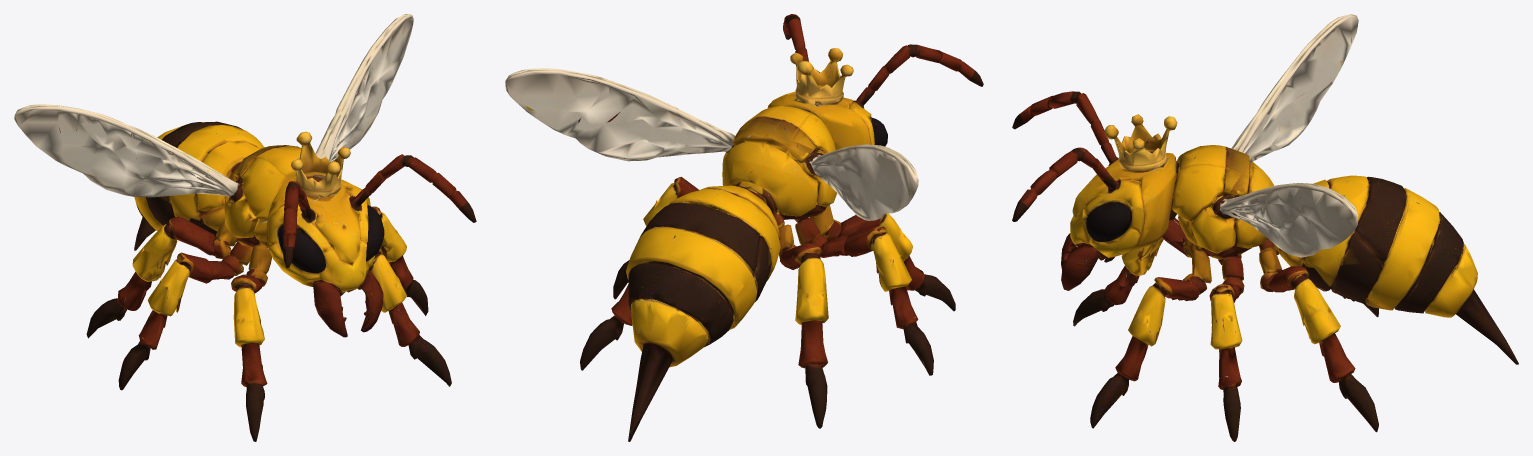
Rendered from boss_hornet.glb.
The picture shows the model from 3 angles, left to right: view 1: azimuth 30°, elevation 25°; view 2: azimuth 150°, elevation 25°; view 3: azimuth 270°, elevation 25°; orthographic projection. The views are drawn at different scales.
Bounding box in the file's own units: 1.77 × 1.11 × 1.9.
Materials: 1 (1 with a texture image).
